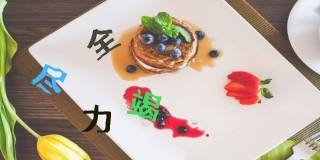全: (88, 28, 122, 61)
力: (84, 104, 112, 134)
尽: (32, 64, 67, 95)
竭: (128, 89, 161, 122)
